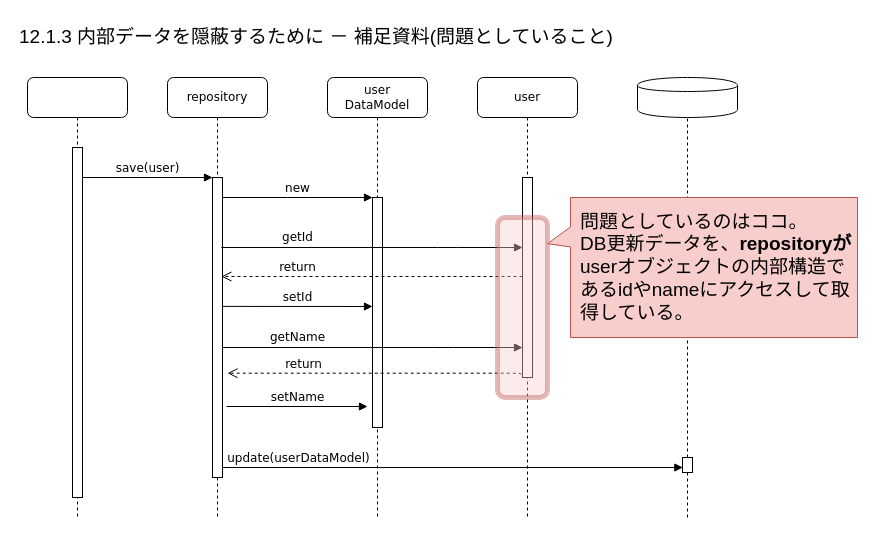
Some shapes in this 875 by 536 pixel diagram are drawn without their labels. Each missing label, with the box of its shape:
application Service: (26, 76, 128, 518)
DB: (636, 76, 738, 118)
